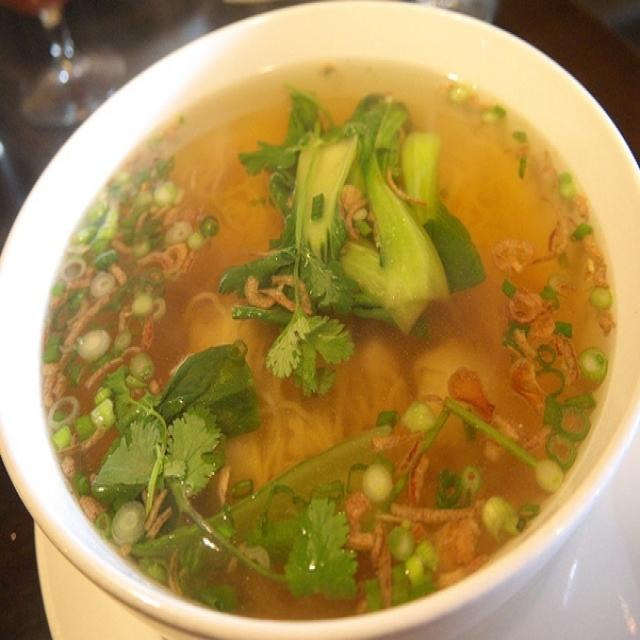汤锅炖物: (30, 31, 627, 623)
